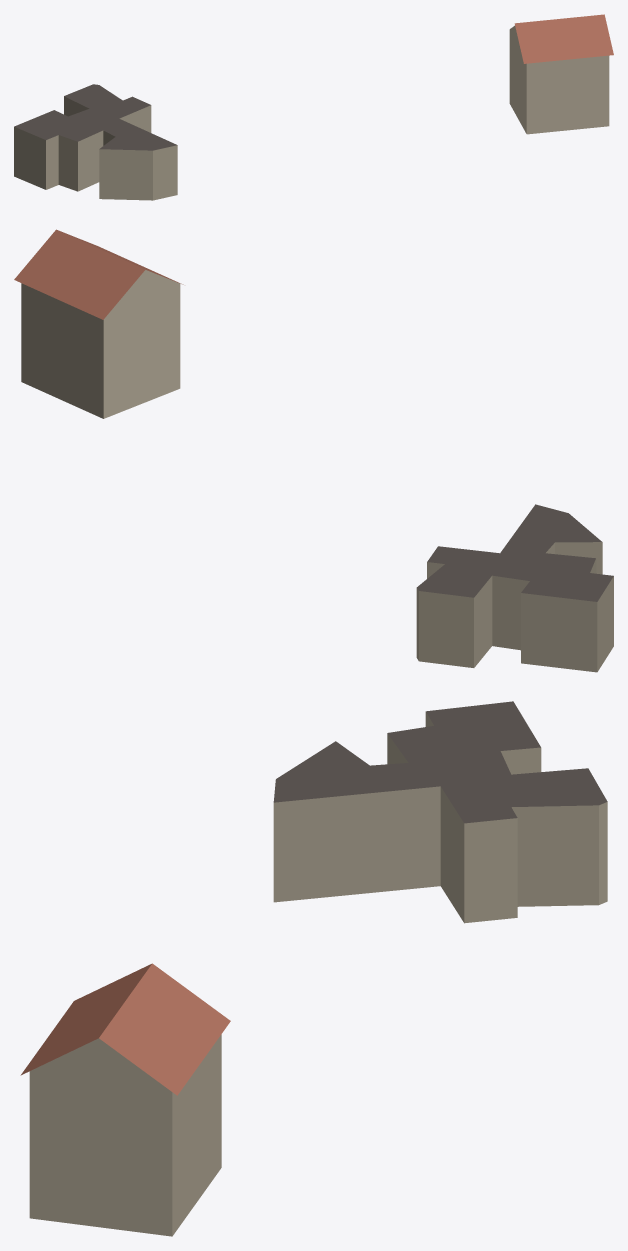
3 renders of one model, top to bottom at view 1: azimuth 30°, elevation 25°; view 2: azimuth 150°, elevation 25°; view 3: azimuth 270°, elevation 25°, orthographic. The views are drawn at different scales.
Parts seen in each view (by area): view 1: tuile; view 2: tuile; view 3: tuile.
Part boxes in pixels (x1,y1,x2,y2): tuile: (14, 14, 613, 200); tuile: (14, 229, 613, 672); tuile: (20, 701, 607, 1236).
Size of the model in its own units: 53.65 by 12.28 by 27.44.
